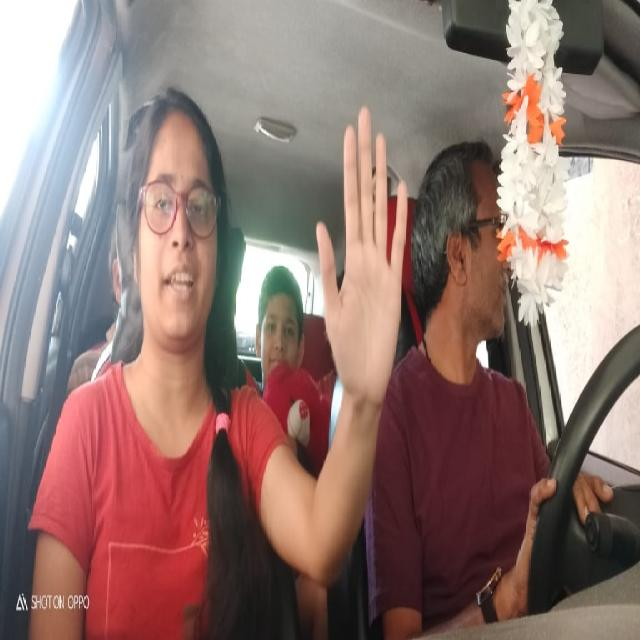LeftRight: (419, 143, 511, 343)
person: (129, 94, 230, 342), (256, 265, 306, 388)
